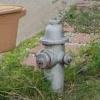a fire hydrant: (35, 18, 70, 99)
